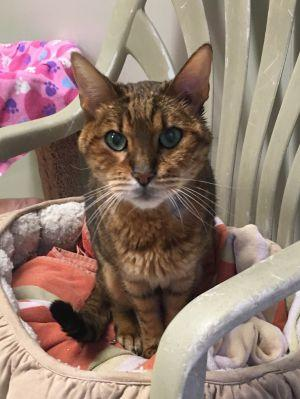bengal: (63, 45, 235, 216)
